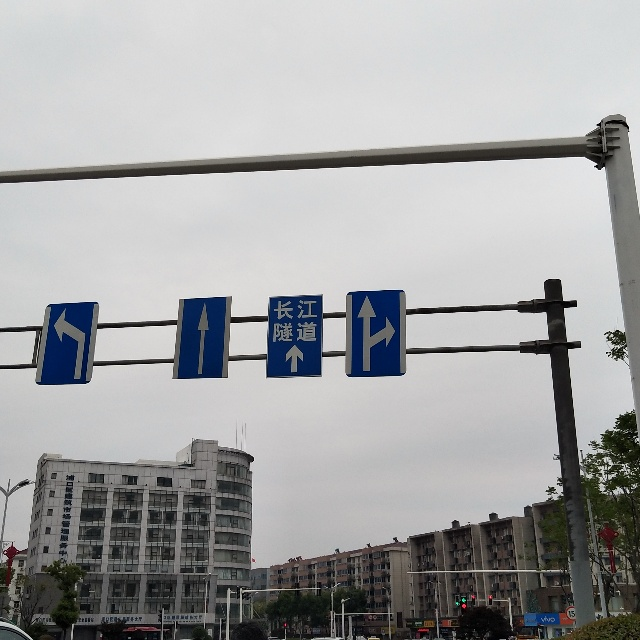left: (36, 299, 97, 388)
straight: (175, 293, 233, 381)
